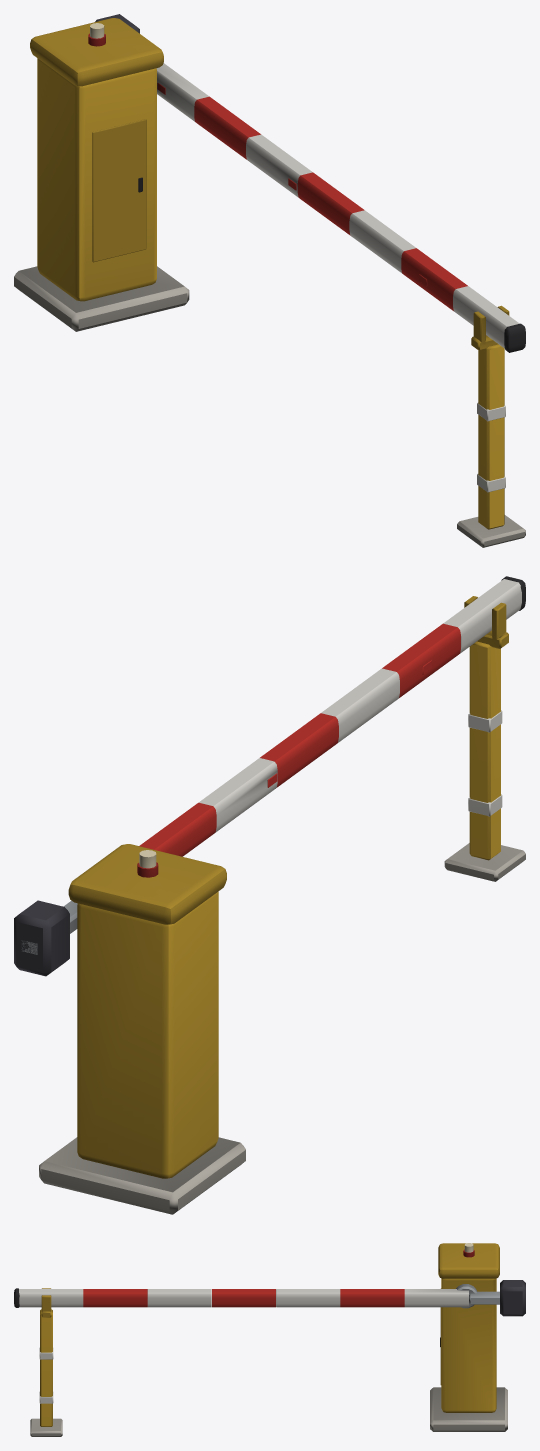
File: BoomBarrier.fbx
The picture shows the model from 3 angles, top to bottom: view 1: azimuth 30°, elevation 25°; view 2: azimuth 150°, elevation 25°; view 3: azimuth 270°, elevation 25°; orthographic projection. The views are drawn at different scales.
Visible parts, largest first — view 1: BoomBarrier; view 2: BoomBarrier; view 3: BoomBarrier.
Part boxes in pixels (x1,y1,x2,y2): BoomBarrier: [14, 14, 525, 547]; BoomBarrier: [14, 576, 525, 1214]; BoomBarrier: [14, 1243, 525, 1436].
Bounding box in the file's own units: 0.58 × 1.15 × 3.15.
